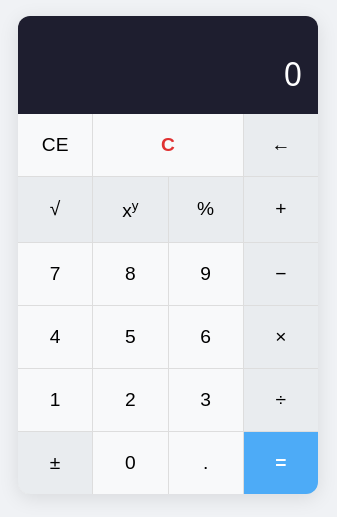
Test case: Calculator › handles power operation and displays superscript expression
Step 1. Click the button "2" → {"x": 130, "y": 400}, box top-left (93, 368), bottom-right (168, 430)
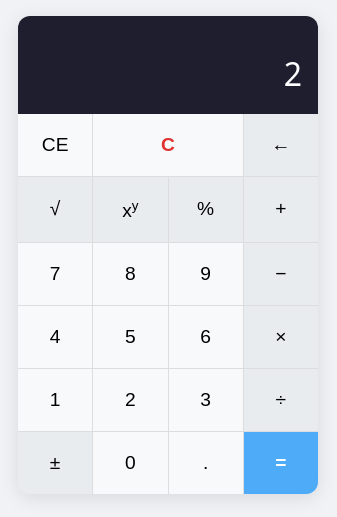
Step 2. Click the button with test id "pow" → {"x": 130, "y": 209}, box top-left (93, 177), bottom-right (168, 242)
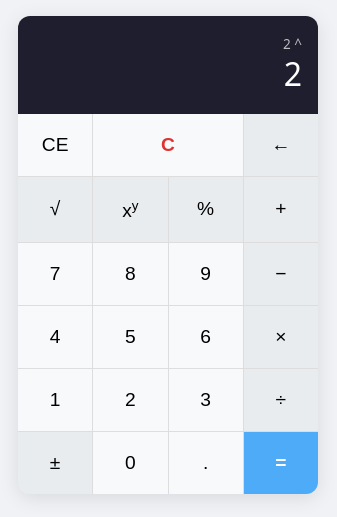
Step 3. Click the button "3" → {"x": 206, "y": 400}, box top-left (168, 368), bottom-right (243, 430)
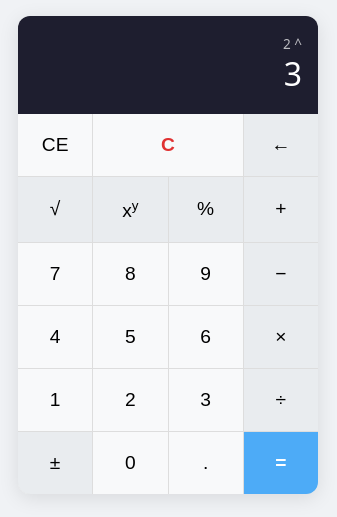
Step 4. Click the button "=" → {"x": 281, "y": 462}, box top-left (244, 432), bottom-right (318, 494)
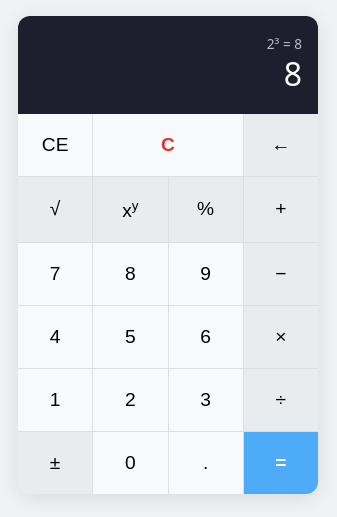
Result: the text with test id "display" reads "8" at top-left (284, 52), bottom-right (302, 95)
